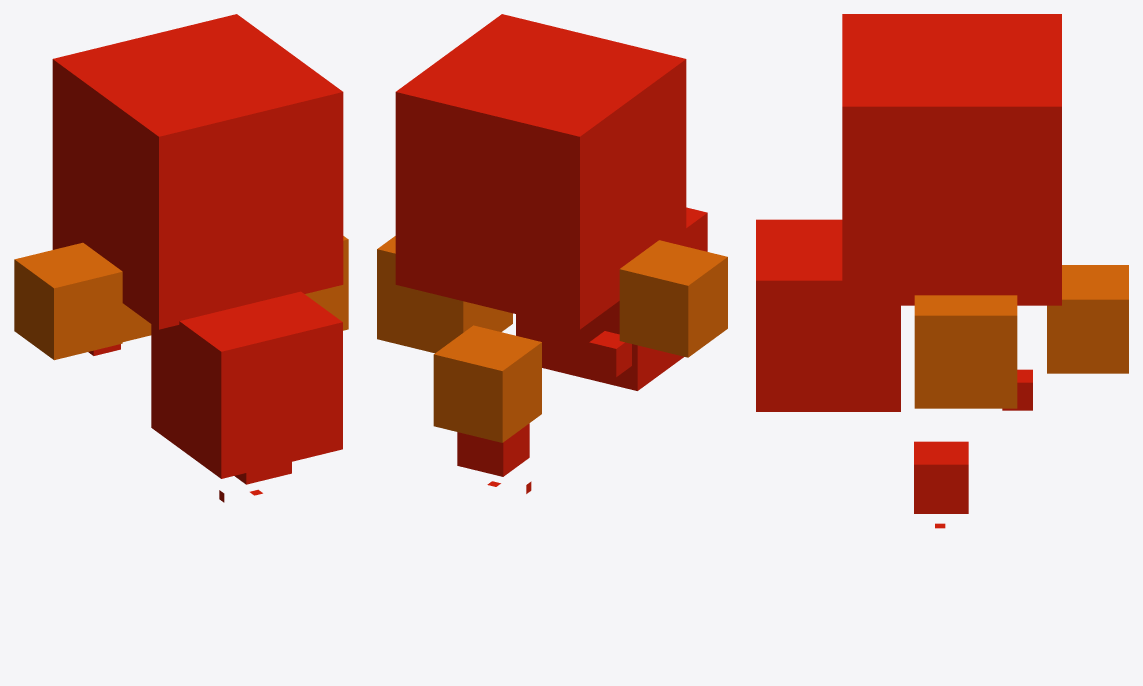
Rendered from Red_Tree.fbx.
3 views of the same model, side by side, from view 1: azimuth 30°, elevation 25°; view 2: azimuth 150°, elevation 25°; view 3: azimuth 270°, elevation 25° (orthographic). The views are drawn at different scales.
Parts seen in each view (by area): view 1: Tree_3; view 2: Tree_3; view 3: Tree_3.
Boxes of the visible parts, x1,y1,x2,y2 form: Tree_3: (14,14,348,502); Tree_3: (377,14,727,493); Tree_3: (756,14,1128,528).
Bounding box in the file's own units: 564 × 1057 × 594.
Materials: 1 (1 with a texture image).
